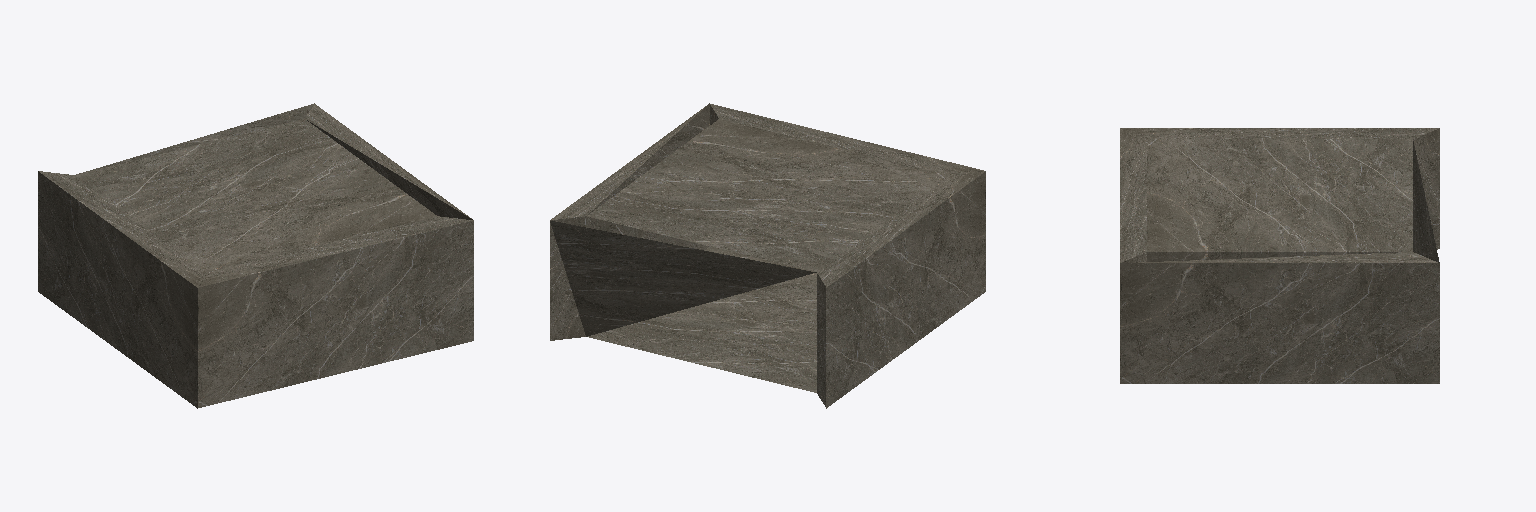
3 renders of one model, left to right at view 1: azimuth 30°, elevation 25°; view 2: azimuth 150°, elevation 25°; view 3: azimuth 270°, elevation 25°, orthographic.
Visible parts, largest first — view 1: RoomWithThickWalls; view 2: RoomWithThickWalls; view 3: RoomWithThickWalls.
Boxes of the visible parts, box(x1,y1,x2,y2) form: RoomWithThickWalls: box(38, 103, 473, 408); RoomWithThickWalls: box(550, 103, 985, 408); RoomWithThickWalls: box(1120, 128, 1439, 383).
Size of the model in its own units: 2.4 by 1 by 2.4.
1 materials, 1 textured.